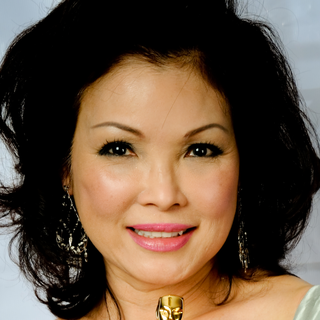eye: (181, 136, 227, 165), (94, 136, 139, 164)
